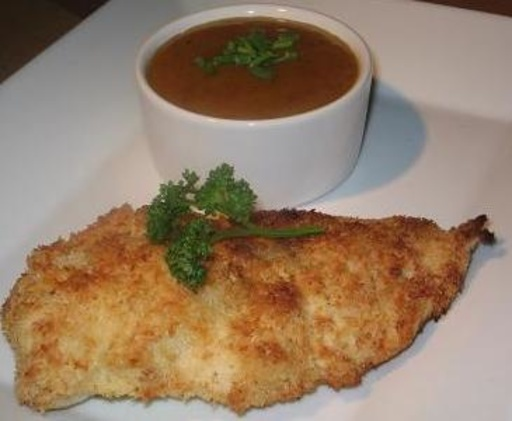background: (0, 107, 397, 273), (117, 10, 285, 79)
